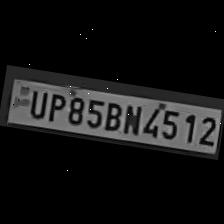1: (178, 110, 199, 142)
2: (193, 111, 220, 147)
4: (138, 100, 162, 138)
5: (156, 104, 182, 140), (81, 94, 105, 128)
8: (61, 90, 86, 126)
B: (101, 96, 125, 132)
N: (119, 99, 144, 135)
P: (42, 88, 67, 122)
U: (23, 85, 48, 119)
